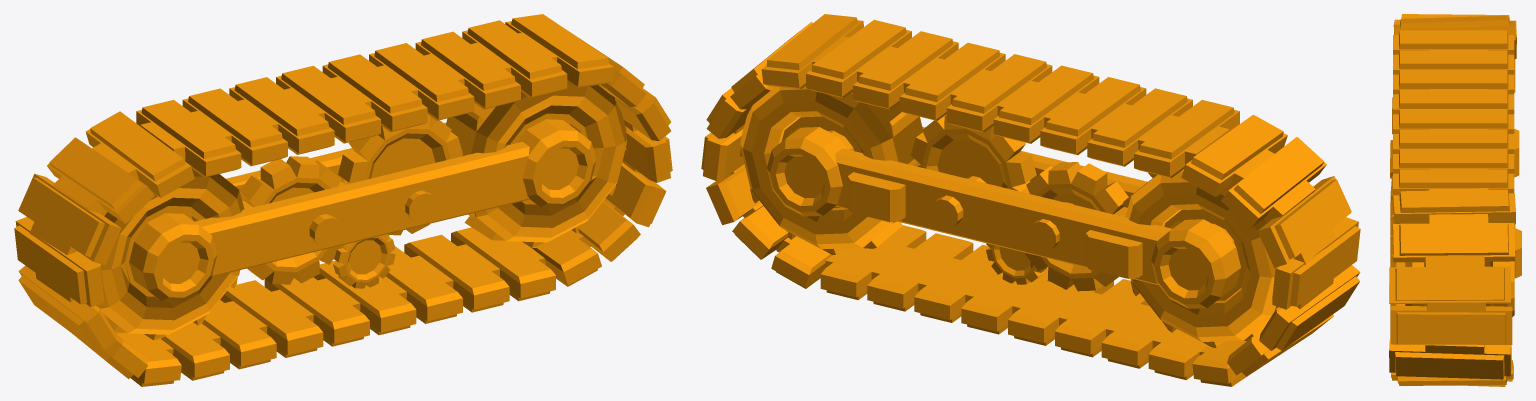
Rendered from threads.glb.
3 renders of one model, left to right at view 1: azimuth 30°, elevation 25°; view 2: azimuth 150°, elevation 25°; view 3: azimuth 270°, elevation 25°, orthographic. The views are drawn at different scales.
Parts seen in each view (by area): view 1: group203368607, group796586454, group715820151, group999604312; view 2: group203368607, group796586454, group715820151, group999604312; view 3: group203368607, group796586454.
Boxes of the visible parts, x1,y1,x2,y2 form: group203368607: [14, 14, 672, 386]; group796586454: [129, 114, 596, 302]; group715820151: [446, 83, 627, 247]; group999604312: [96, 169, 247, 340]; group203368607: [701, 14, 1360, 386]; group796586454: [767, 114, 1240, 308]; group715820151: [740, 86, 922, 254]; group999604312: [1122, 169, 1278, 347]; group203368607: [1389, 14, 1516, 386]; group796586454: [1405, 128, 1521, 316].
Bounding box in the file's own units: 1.58 × 0.5735 × 0.3495.
